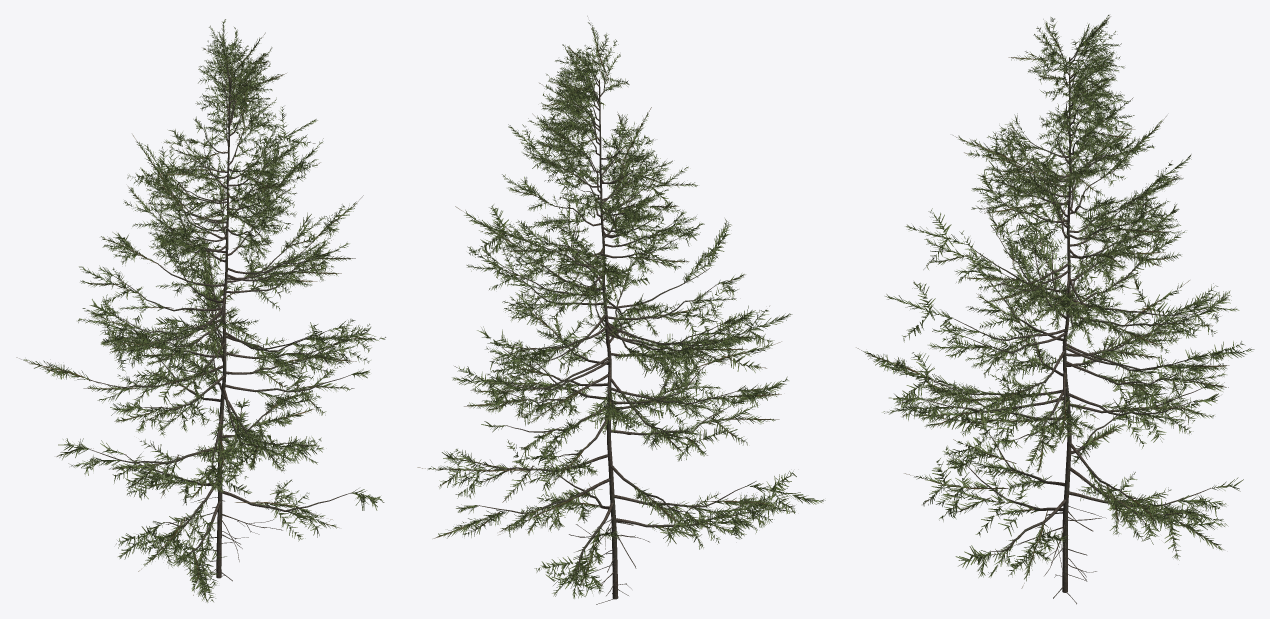
Rendered from conifer.glb.
3 views of the same model, side by side, from view 1: azimuth 30°, elevation 25°; view 2: azimuth 150°, elevation 25°; view 3: azimuth 270°, elevation 25° (orthographic). The views are drawn at different scales.
Visible parts, largest first — view 1: tree; view 2: tree; view 3: tree.
Boxes of the visible parts, left/top/right/bottom form: tree: left=16, top=19, right=385, bottom=602; tree: left=417, top=16, right=825, bottom=604; tree: left=856, top=15, right=1254, bottom=604.
Size of the model in its own units: 5.11 by 8.91 by 5.39.
3 materials, 3 textured.
